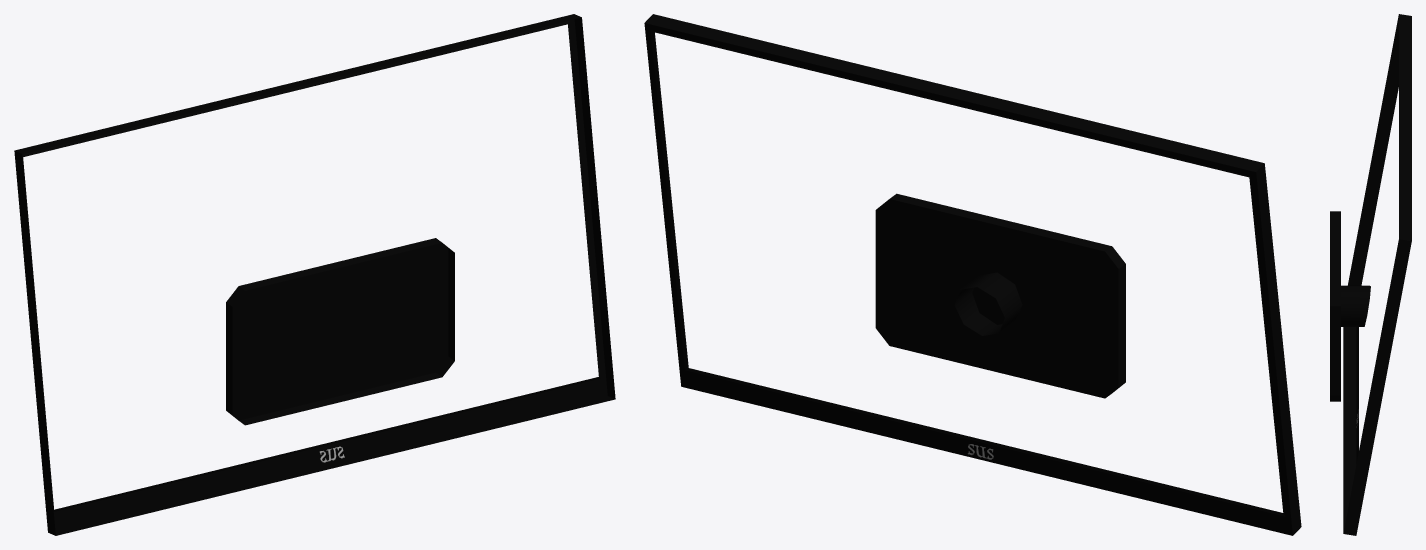
The picture shows the model from 3 angles, left to right: view 1: azimuth 30°, elevation 25°; view 2: azimuth 150°, elevation 25°; view 3: azimuth 270°, elevation 25°; orthographic projection. The views are drawn at different scales.
Visible parts, largest first — view 1: TV; view 2: TV; view 3: TV.
Boxes of the visible parts, x1=… form: TV: x1=14, y1=14, x2=615, y2=535; TV: x1=644, y1=14, x2=1301, y2=535; TV: x1=1330, y1=14, x2=1411, y2=535.
Bounding box in the file's own units: 168 × 103 × 25.78.
Materials: 1 (1 with a texture image).
